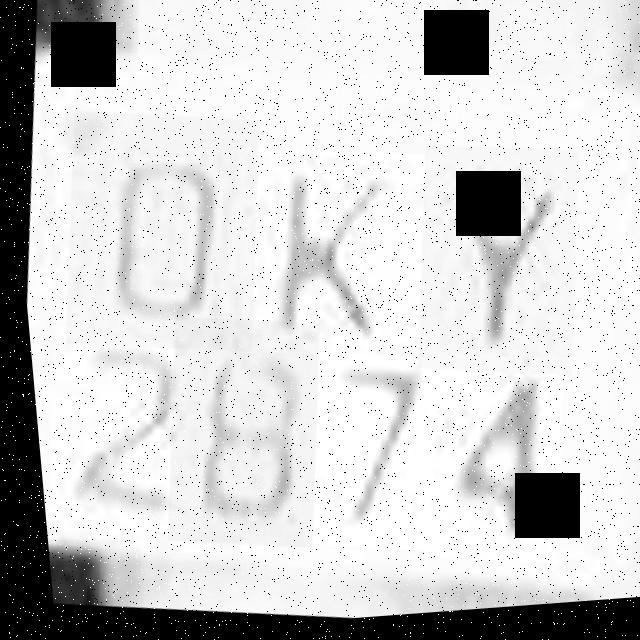2: (21, 294, 217, 549)
4: (399, 351, 570, 579)
7: (279, 348, 441, 563)
8: (141, 310, 328, 560)
K: (209, 138, 436, 376)
O: (43, 101, 272, 366)
Y: (395, 141, 591, 393)
